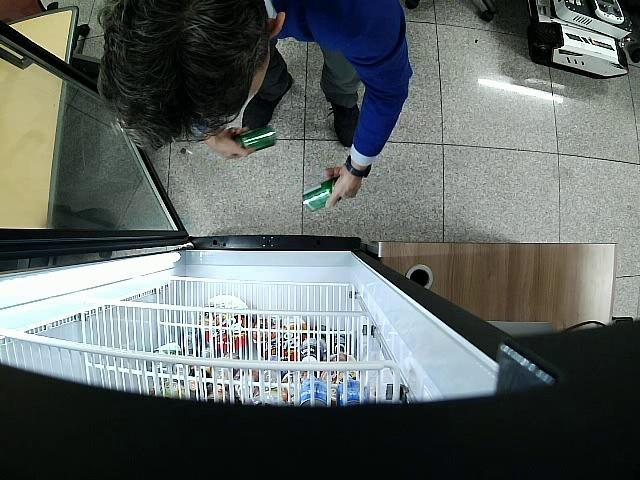12_chilsungCider: (303, 177, 340, 211), (236, 126, 276, 153)
